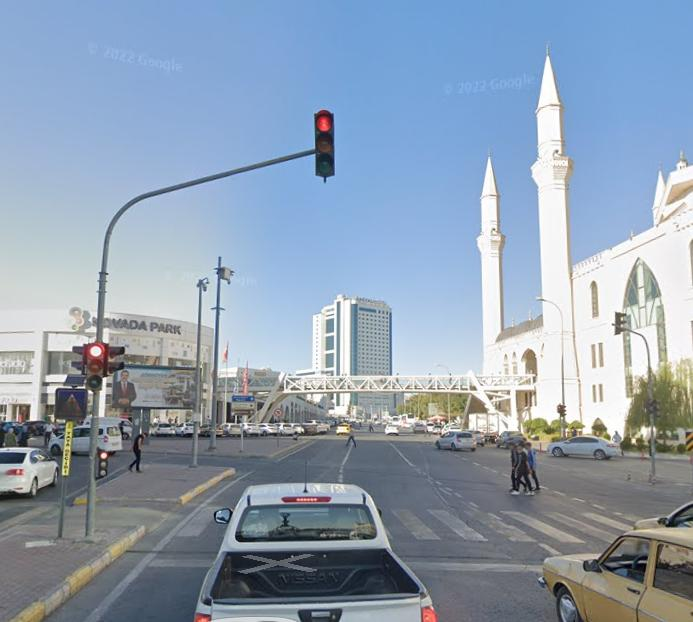redlight: (313, 107, 337, 181), (80, 341, 106, 392)
